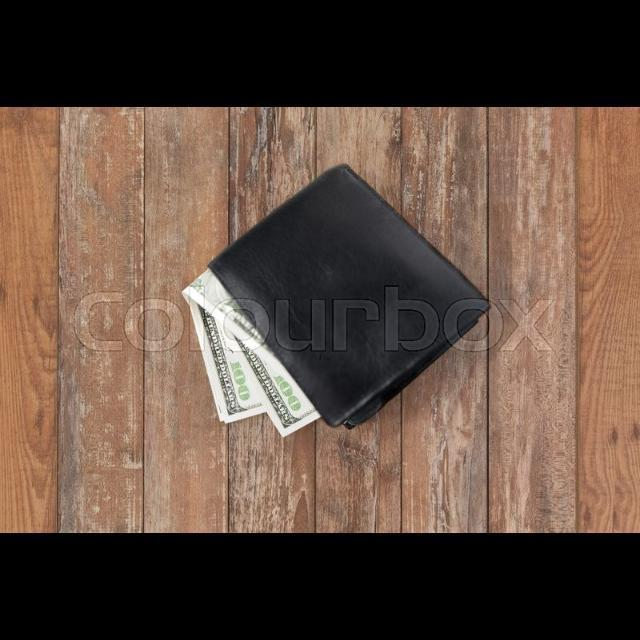wallet: (172, 132, 544, 488)
